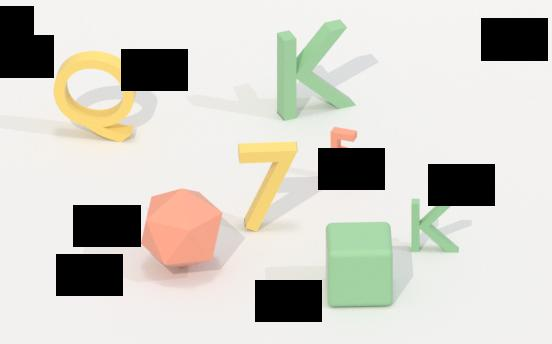5: (321, 124, 365, 185)
7: (236, 138, 302, 236)
dagiac: (140, 187, 225, 271)
hop: (321, 222, 396, 306)
k: (271, 23, 363, 125), (404, 194, 468, 256)
q: (53, 50, 140, 141)
